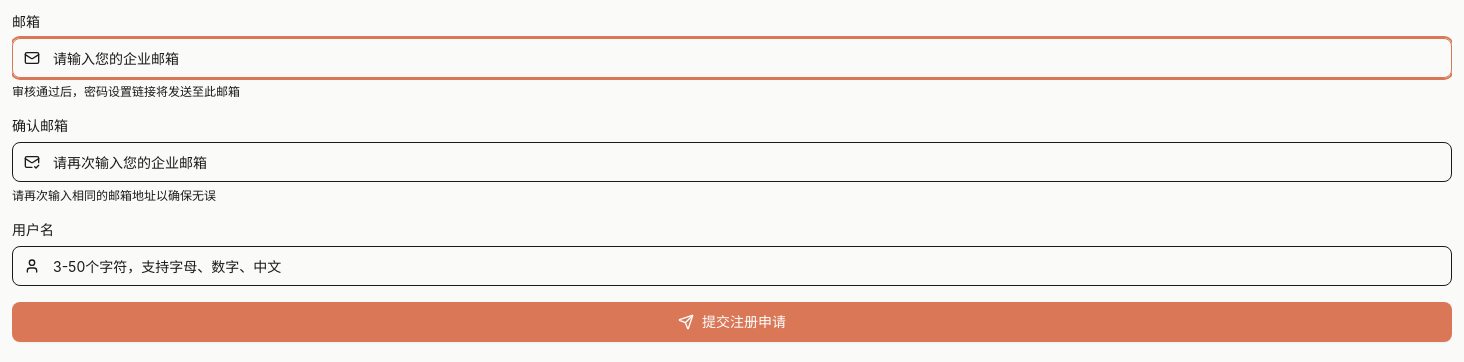
Test: RegisterApplyForm 组件 › 空确认邮箱提交 - 显示错误
Type "test@example.com" into the field with placeholder "请输入您的企业邮箱".
click(732, 58); type("test@example.com")  # box [12, 38, 1452, 78]
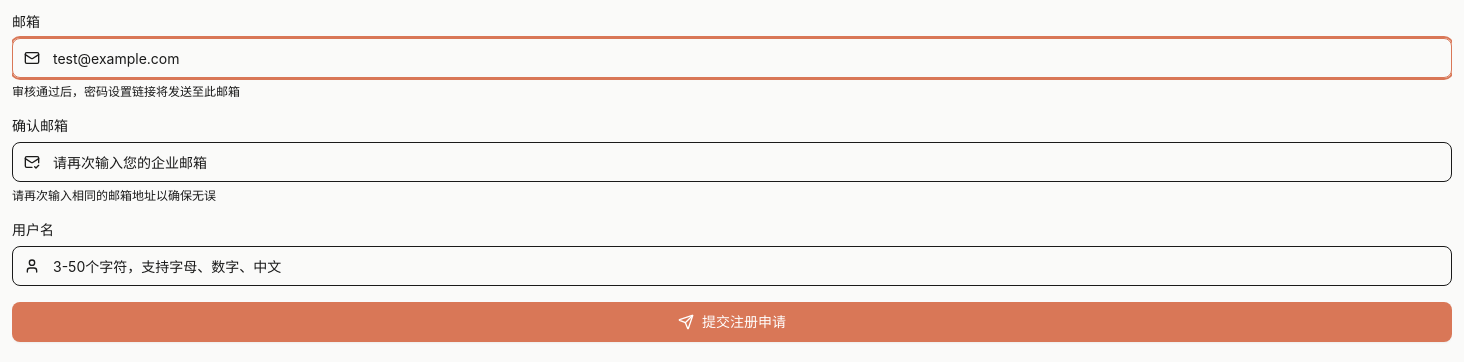
Type "testuser" into the field with placeholder "3-50个字符，支持字母、数字、中文".
click(732, 266); type("testuser")  # box [12, 246, 1452, 286]
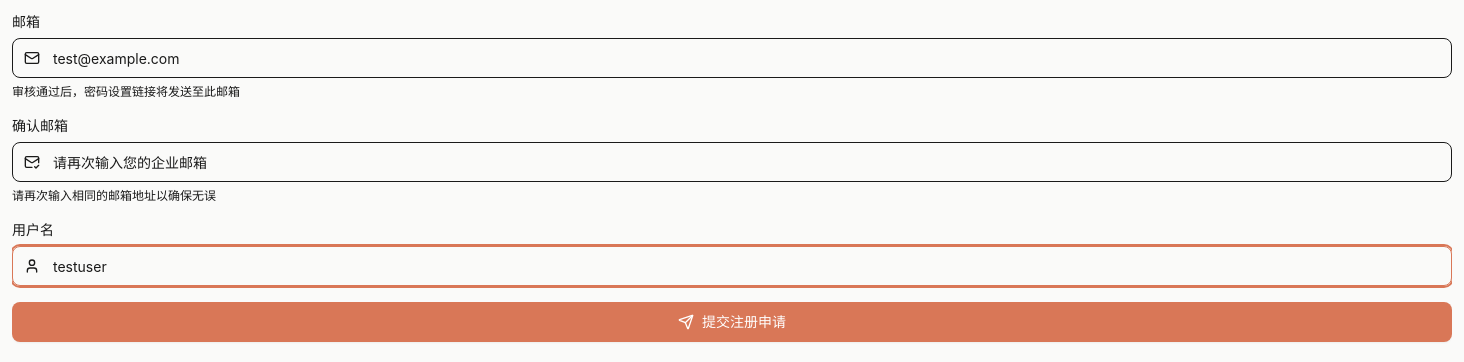
Click the button "提交注册申请".
click(732, 322)  # box [12, 302, 1452, 342]
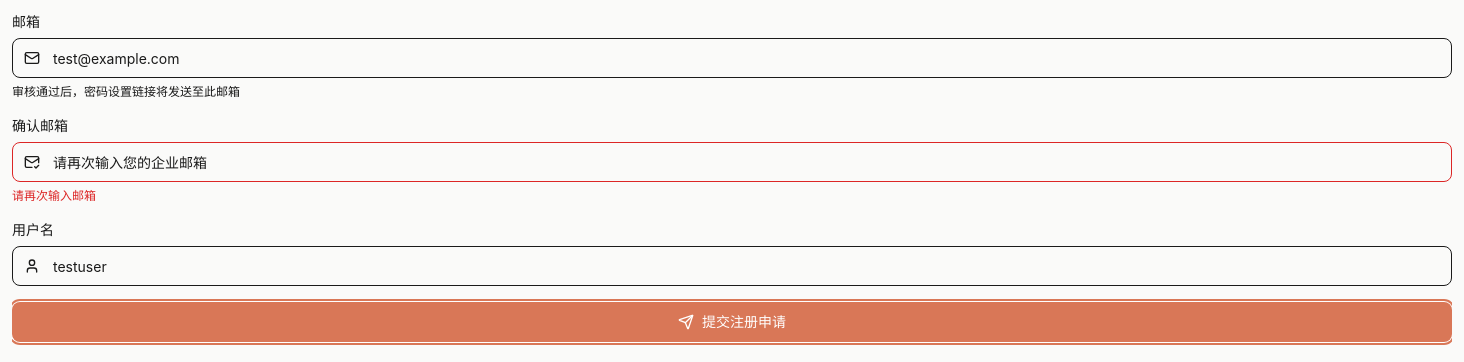
Result: the text "请再次输入邮箱" is shown at [12, 188, 96, 203]
